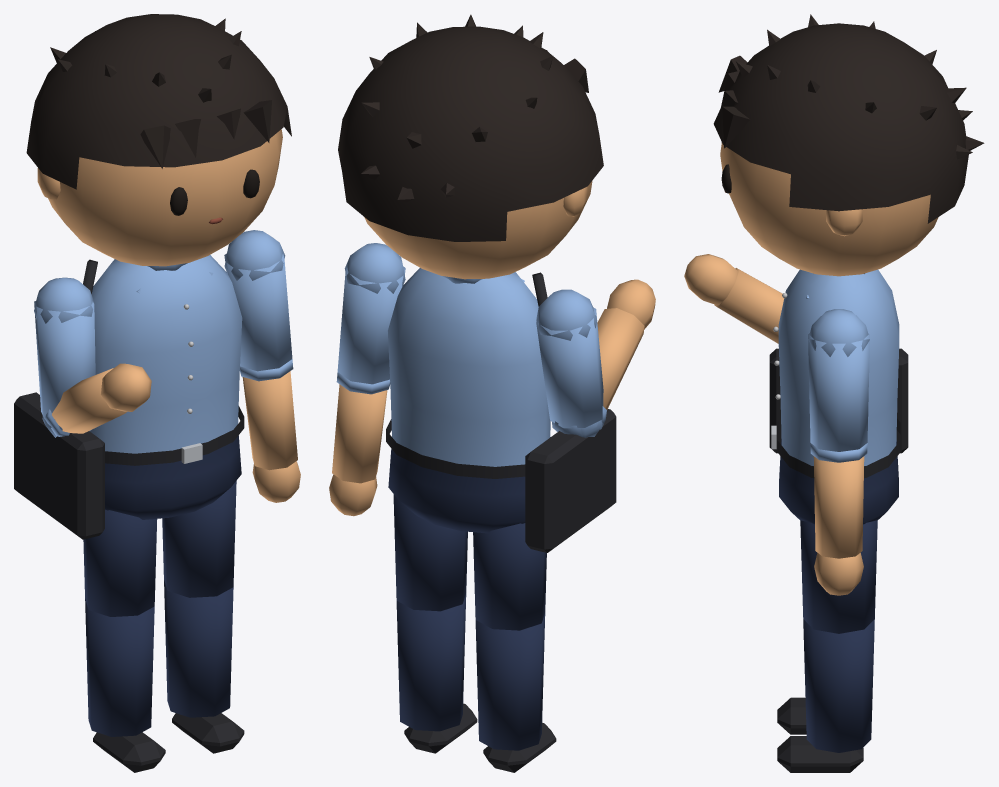
File: era4_office_man.glb
3 renders of one model, left to right at view 1: azimuth 30°, elevation 25°; view 2: azimuth 150°, elevation 25°; view 3: azimuth 270°, elevation 25°, orthographic.
Visible parts, largest first — view 1: head, body, shin_L, shin_R, arm_L, leg_R, arm_R, leg_L, forearm_L, forearm_R; view 2: head, body, shin_R, shin_L, arm_R, arm_L, leg_R, leg_L, forearm_L, forearm_R; view 3: head, body, shin_L, arm_L, forearm_L, leg_L, forearm_R, shin_R.
Part boxes in pixels (x1,y1,x2,y2): head: (26, 14, 291, 266); body: (14, 255, 244, 539); shin_L: (164, 580, 244, 753); shin_R: (85, 599, 165, 772); arm_L: (224, 230, 292, 371); leg_R: (83, 509, 157, 616); arm_R: (34, 277, 95, 437); leg_L: (162, 481, 236, 597); forearm_L: (240, 359, 300, 502); forearm_R: (42, 363, 151, 436); head: (338, 14, 603, 279); body: (386, 268, 616, 552); shin_R: (475, 612, 556, 772); shin_L: (396, 593, 477, 753); arm_R: (536, 289, 603, 437); arm_L: (337, 243, 405, 384); leg_R: (473, 523, 546, 630); leg_L: (393, 494, 467, 611); forearm_L: (329, 372, 390, 516); forearm_R: (554, 279, 655, 437); head: (713, 14, 984, 276); body: (769, 269, 908, 524); shin_L: (777, 619, 874, 772); arm_L: (808, 309, 869, 451); forearm_L: (810, 443, 867, 595); leg_L: (800, 520, 877, 633); forearm_R: (684, 254, 784, 343); shin_R: (777, 697, 806, 734).
Bounding box in the file's own units: 0.5657 × 1.48 × 0.5644.
